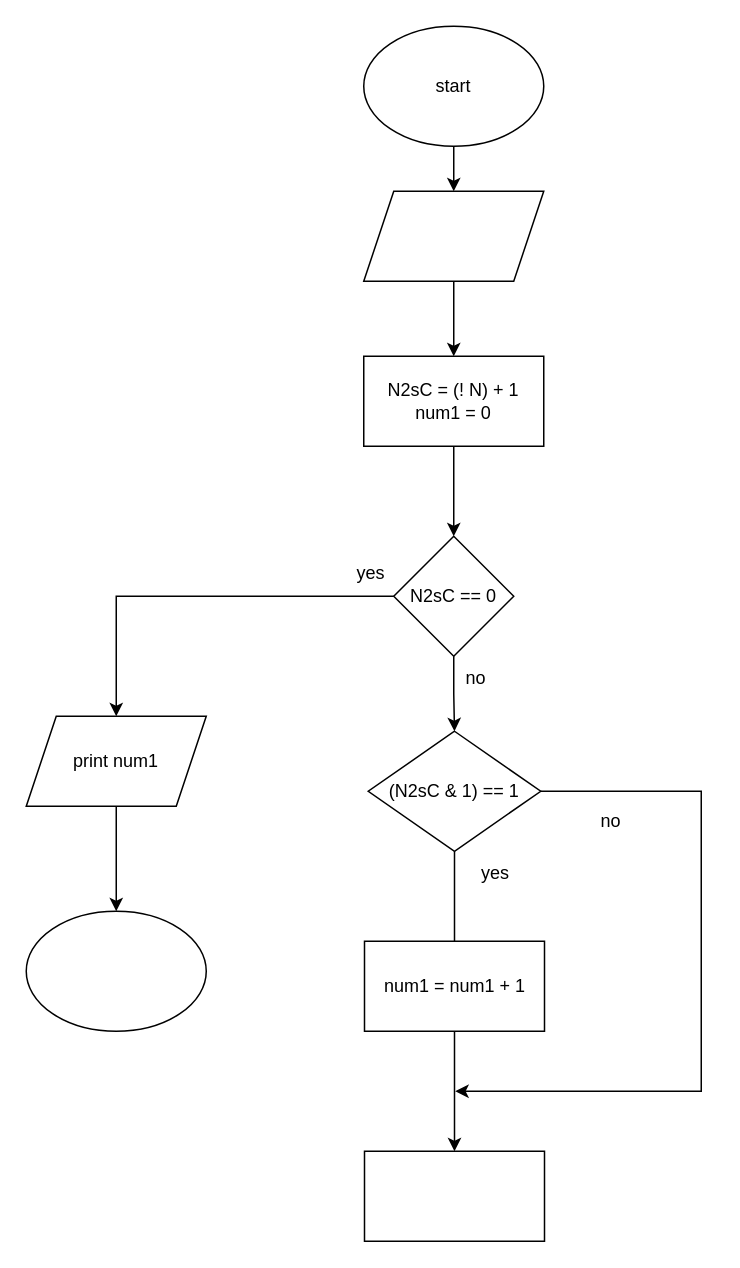
The diagram is 740 pixels wide and 1268 high, and some of its shapes have lost their labels. The centre of each missing label's shape, as x and y in pixels:
end: (115,970)
get N: (453,235)
N2sC = N2sC >>1: (453,1195)
